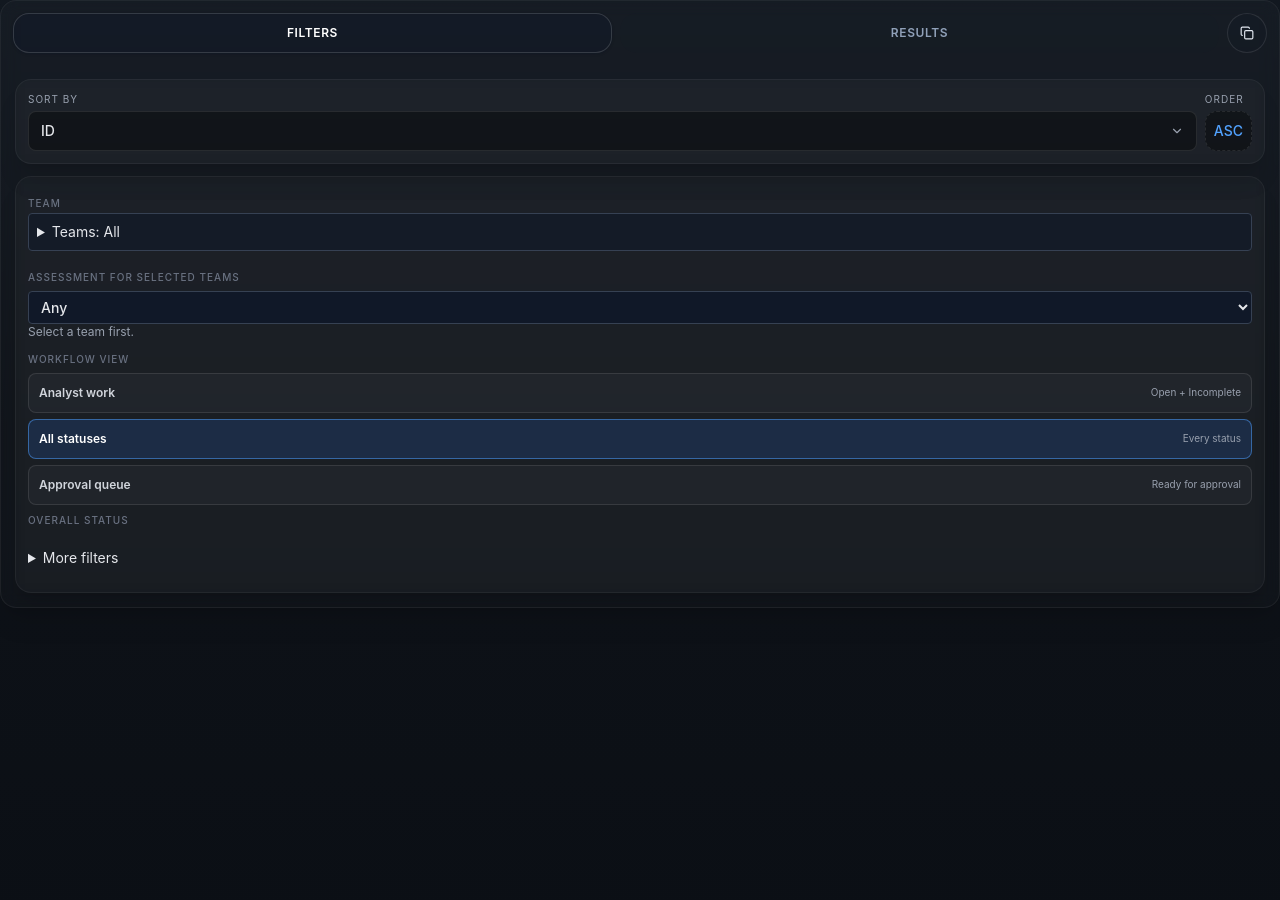
Scenario: StatsSidebar team filter › groups aliases into the canonical team row and shows them dimmed below
This screenshot has width=1280, height=900.
Click the button "Results" at (920, 33), box x1=620 y1=13 x2=1219 y2=53
(page scrolled)
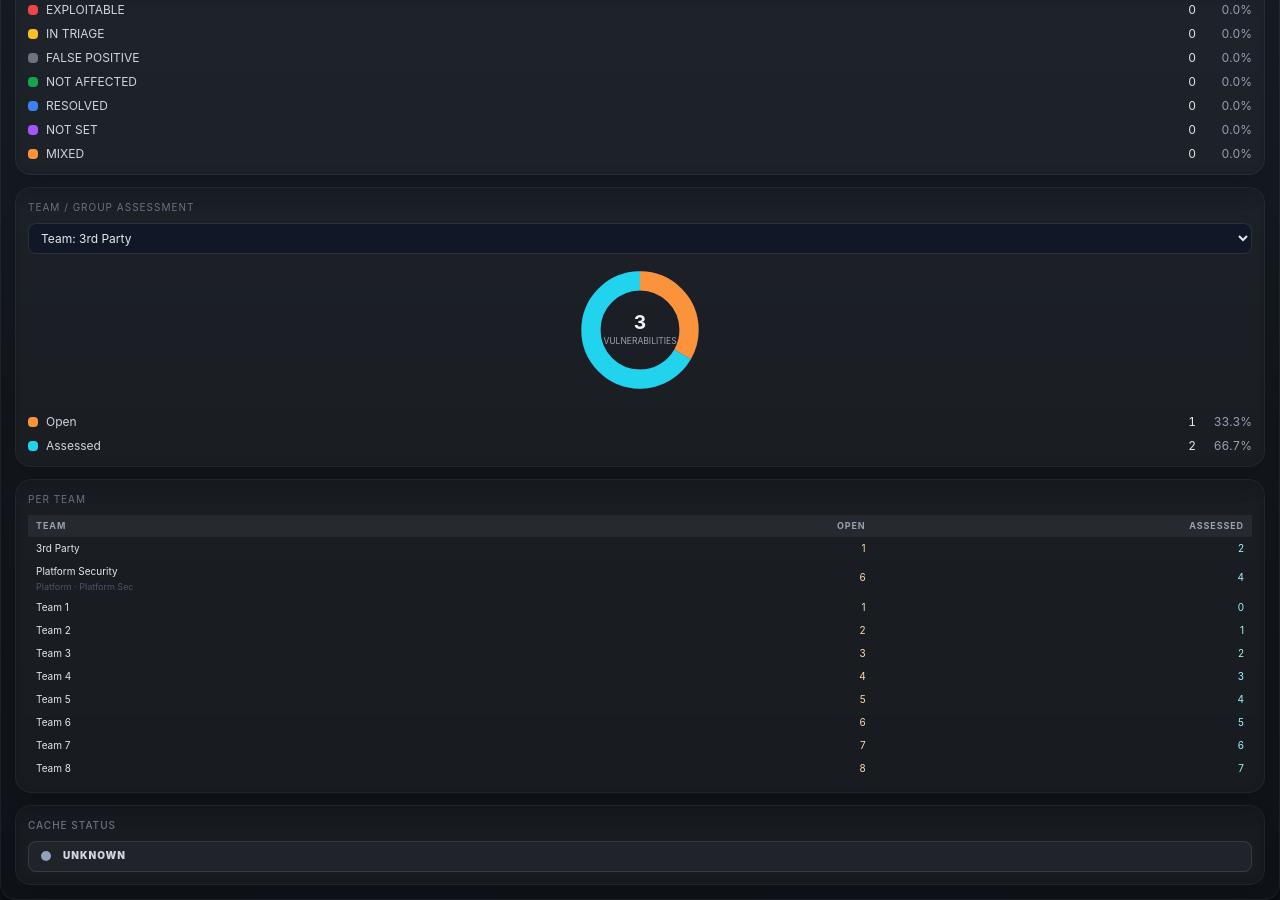
Result: the text "Platform Security" is shown at x1=36 y1=564 x2=118 y2=576
Result: the cells read "Platform SecurityPlatform · Platform Sec", "6", "4", in this order at x1=28 y1=560 x2=635 y2=596; x1=635 y1=560 x2=874 y2=596; x1=874 y1=560 x2=1252 y2=596
Result: the text with test id "team-aliases-Platform Security" reads "Platform · Platform Sec" at x1=36 y1=580 x2=134 y2=592
